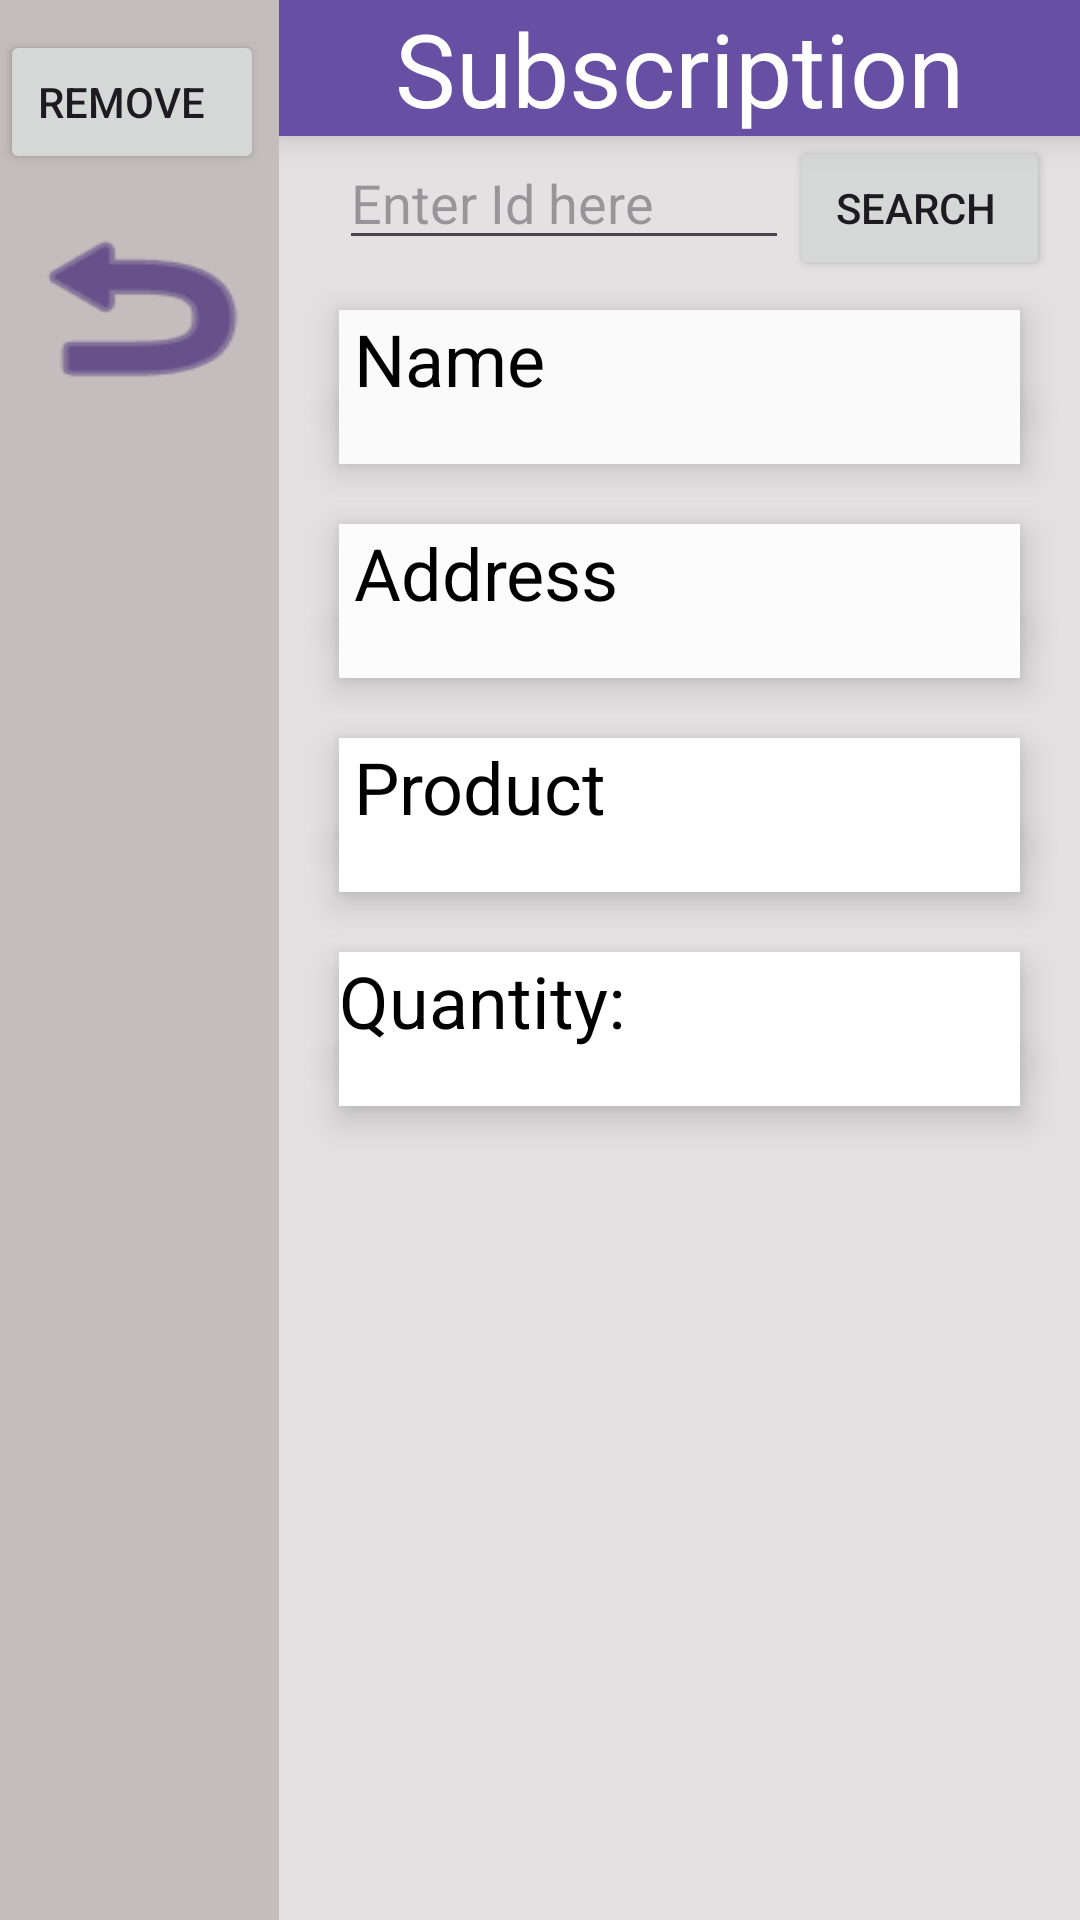

Screen size 1080x1920. Icon name, then its box in pixels as (x1, y1, x2, y2):
revert: (49, 242, 237, 376)
